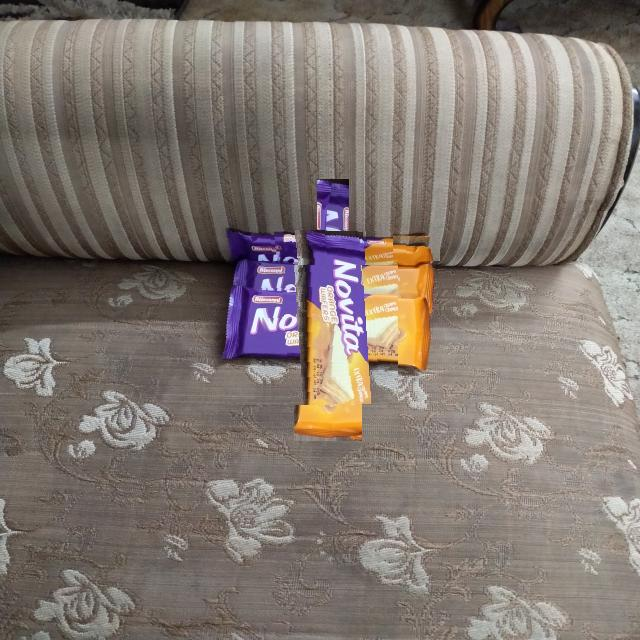Plastic: (258, 265, 398, 406), (273, 223, 393, 344), (222, 226, 440, 261)
